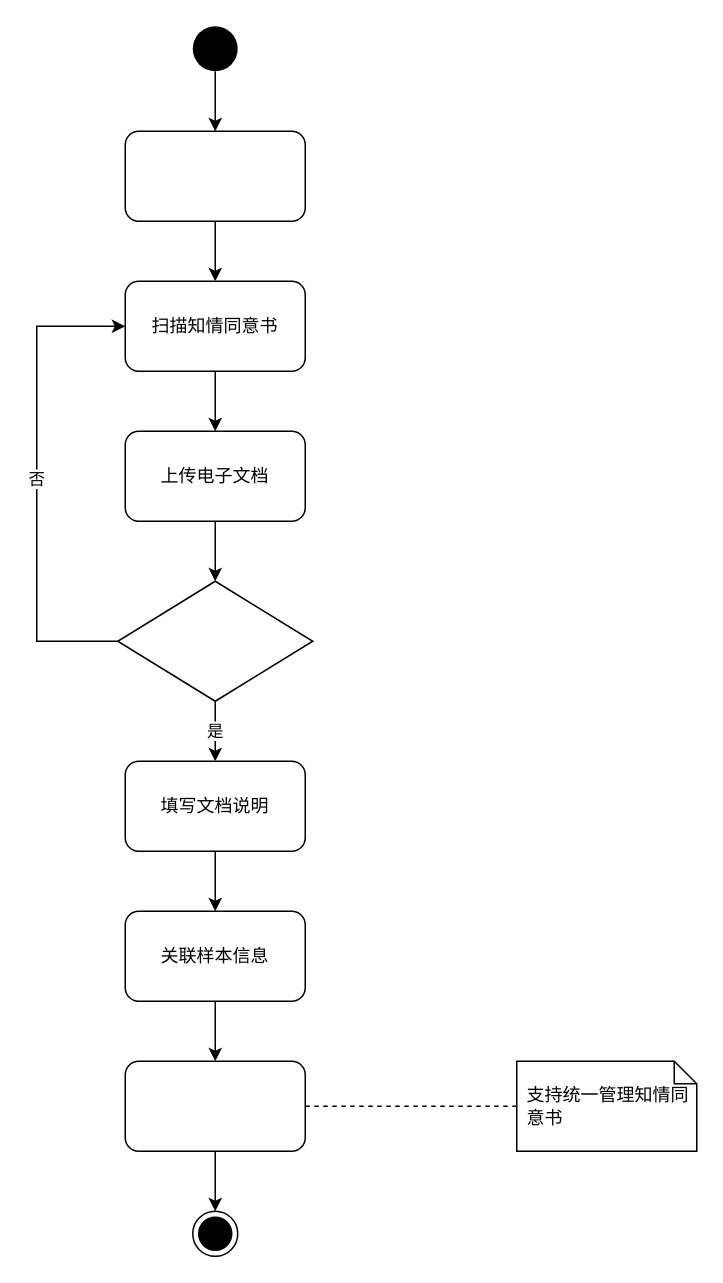
Image size: 723x1283. Some labels were removed from this diagram. Here are the shapes that lost their labels. From the top down, the box of each, then its label:
(124, 130, 305, 221): 选择样本信息
(116, 580, 313, 701): 文档是否 符合要求？
(124, 1060, 305, 1151): 保存管理记录
